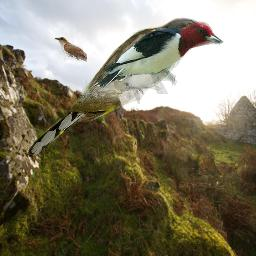Cuckoo: (24, 16, 222, 159), (53, 37, 87, 62)
Woodpecker: (87, 16, 227, 97)
